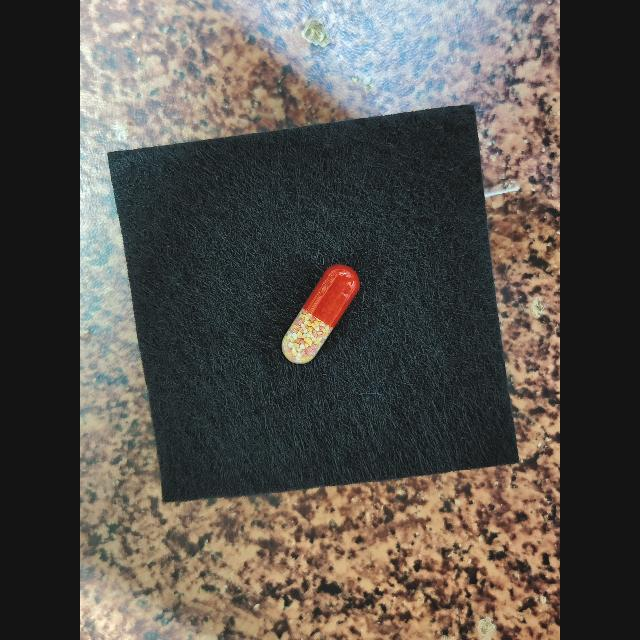Intact Capsule: (282, 265, 360, 365)
